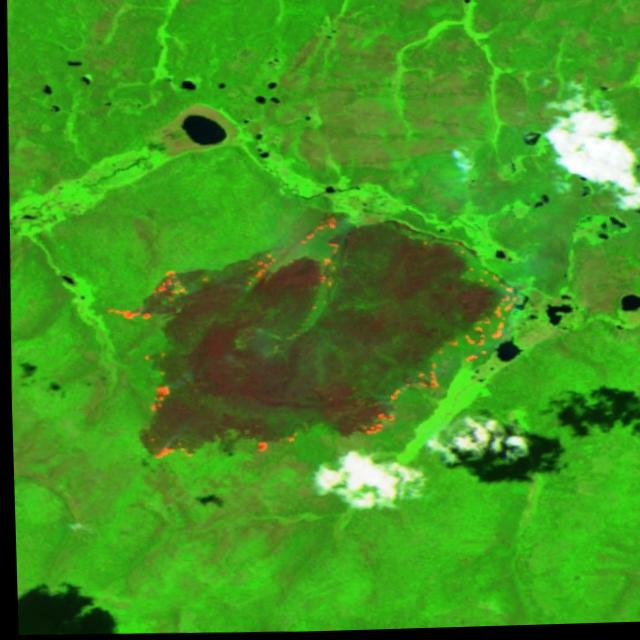fire: (96, 209, 533, 478)
